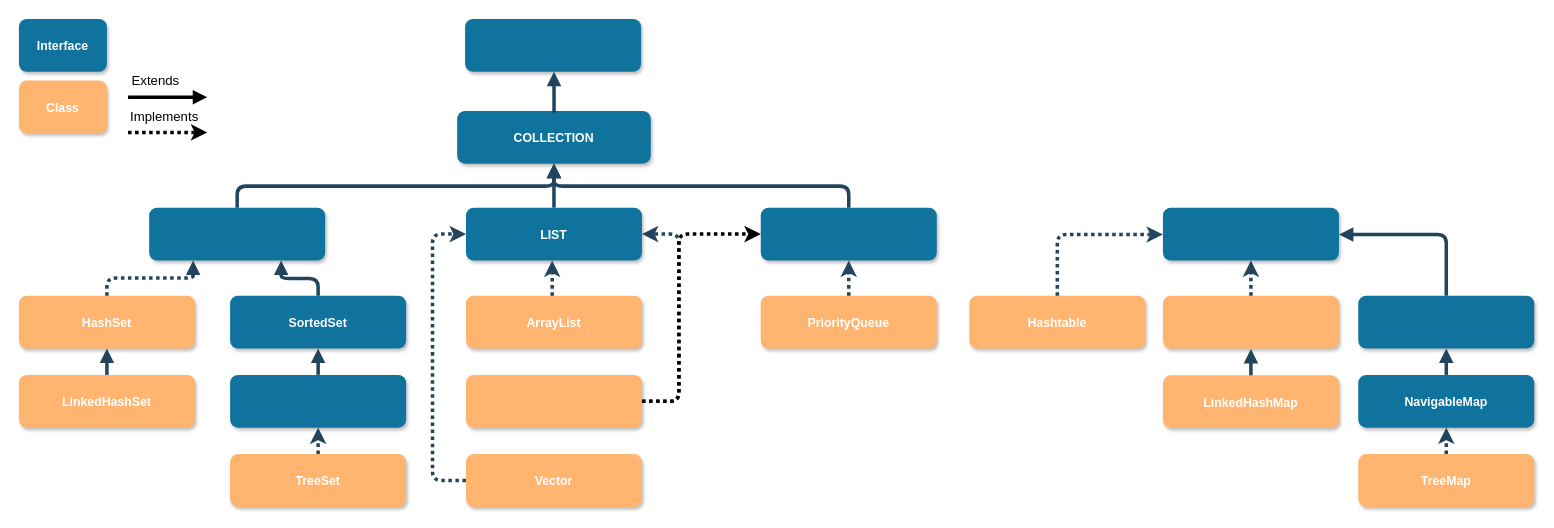
Image size: 1554x528. Some labels were removed from this diagram. The centre of each missing label's shape, as x and y in pixels:
HashMap: point (1251, 323)
ITERABLE: point (553, 46)
LinkedList: point (554, 402)
MAP: point (1251, 235)
NavigableSet: point (318, 402)
QUEUE: point (849, 235)
SET: point (237, 235)
SortedMap: point (1446, 323)
